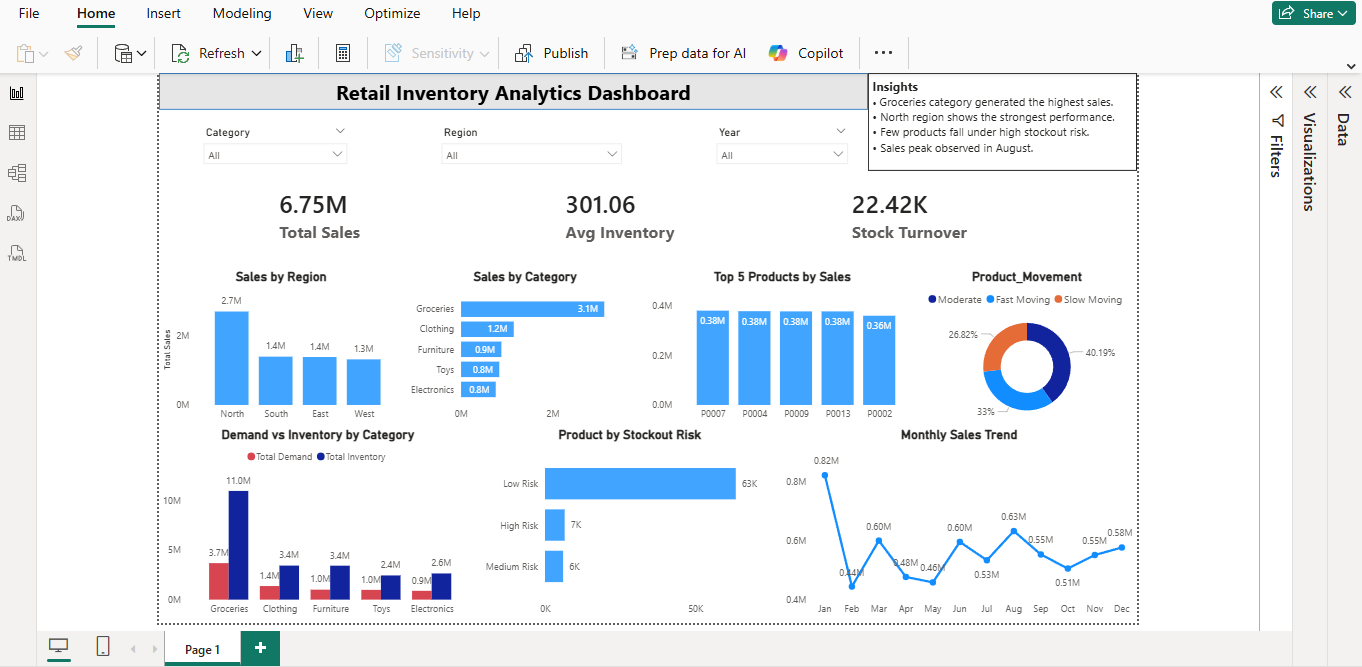

Layout of this report page (visuals, bound fields, positions):
{"tool":"powerbi","page":{"name":"Page 1","canvas":[1280,720],"ordinal":0},"visuals":[{"type":"cardVisual","fields":{"Data":["Retail_Raw.Total Sales","Retail_Raw.Avg Inventory","Retail_Raw.Stock Turnover"]},"box":[128,128,1152,112],"z":2000},{"type":"clusteredBarChart","title":"Sales by Category","fields":{"Category":["Retail_Raw.Category"],"Y":["Retail_Raw.Total Sales"]},"box":[320,256,320,208],"z":3001},{"type":"clusteredColumnChart","title":"Sales by Region","fields":{"Category":["Retail_Raw.Region"],"Y":["Retail_Raw.Total Sales"]},"box":[0,256,320,208],"z":3002},{"type":"columnChart","title":"Top 5 Products by Sales","fields":{"Category":["Retail_Raw.Product_ID"],"Y":["Retail_Raw.Total Sales"]},"box":[640,256,352,208],"z":3003},{"type":"donutChart","title":"Product_Movement","fields":{"Category":["Retail_Raw.Product_Movement"],"Y":["Sum(Retail_Raw.Units_Sold)"]},"box":[992,256,288,208],"z":3004},{"type":"clusteredBarChart","title":"Product by Stockout Risk","fields":{"Category":["Retail_Raw.Stockout Risk"],"Y":["CountNonNull(Retail_Raw.Product_ID)"]},"box":[416,464,400,256],"z":3005},{"type":"slicer","fields":{"Values":["Retail_Raw.Category"]},"box":[48,64,208,64],"z":3006},{"type":"slicer","fields":{"Values":["Retail_Raw.Region"]},"box":[360,64,256,64],"z":3007},{"type":"lineChart","title":"Monthly Sales Trend","fields":{"Y":["Retail_Raw.Total Sales"],"Category":["Date_Table.Month"]},"box":[816,464,464,256],"z":3009},{"type":"clusteredColumnChart","title":"Demand vs Inventory by Category","fields":{"Category":["Retail_Raw.Category"],"Y":["Retail_Raw.Total Demand","Retail_Raw.Total Inventory"]},"box":[0,464,416,256],"z":3010},{"type":"slicer","fields":{"Values":["Date_Table.Year"]},"box":[720,64,192,64],"z":3012},{"type":"textbox","box":[928,0,352,128],"z":3013},{"type":"shape","title":"Retail Inventory Analytics Dashboard","box":[0,0,928,48],"z":3014}]}

Visuals, with their boxes on the page's 1280x720 design canvas (x1, y1, x2, y2). These are canvas units, not pixel positions in the 1362x667 screenshot, which may show the page scaled, cropped or inside an application window:
cardVisual - Retail_Raw.Total Sales x Retail_Raw.Avg Inventory: [128,128,1280,240]
"Sales by Category" clusteredBarChart: [320,256,640,464]
"Sales by Region" clusteredColumnChart: [0,256,320,464]
"Top 5 Products by Sales" columnChart: [640,256,992,464]
"Product_Movement" donutChart: [992,256,1280,464]
"Product by Stockout Risk" clusteredBarChart: [416,464,816,720]
slicer - Retail_Raw.Category: [48,64,256,128]
slicer - Retail_Raw.Region: [360,64,616,128]
"Monthly Sales Trend" lineChart: [816,464,1280,720]
"Demand vs Inventory by Category" clusteredColumnChart: [0,464,416,720]
slicer - Date_Table.Year: [720,64,912,128]
textbox: [928,0,1280,128]
"Retail Inventory Analytics Dashboard" shape: [0,0,928,48]
